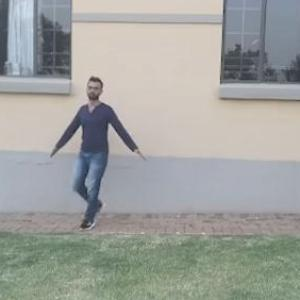land: (51, 80, 152, 234)
